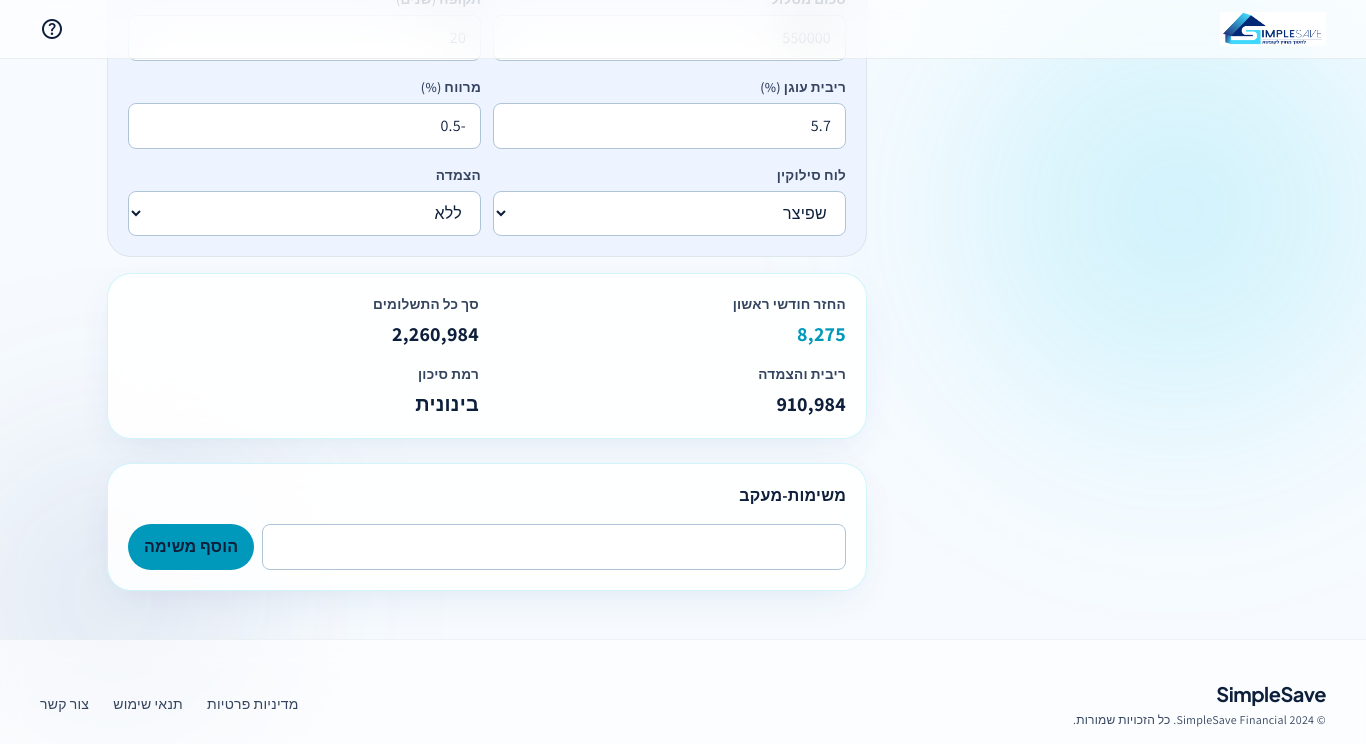
Test: AdvisorScreen › searches tasks by task text or client name in the משימות view
The image size is (1366, 744).
(page scrolled)
In the field named "תיאור המשימה": [554, 547] box [262,524,846,570], type "לבדוק ריבית"
Click the button "הוסף משימה": [191, 547] box [128,524,254,570]
(page scrolled)
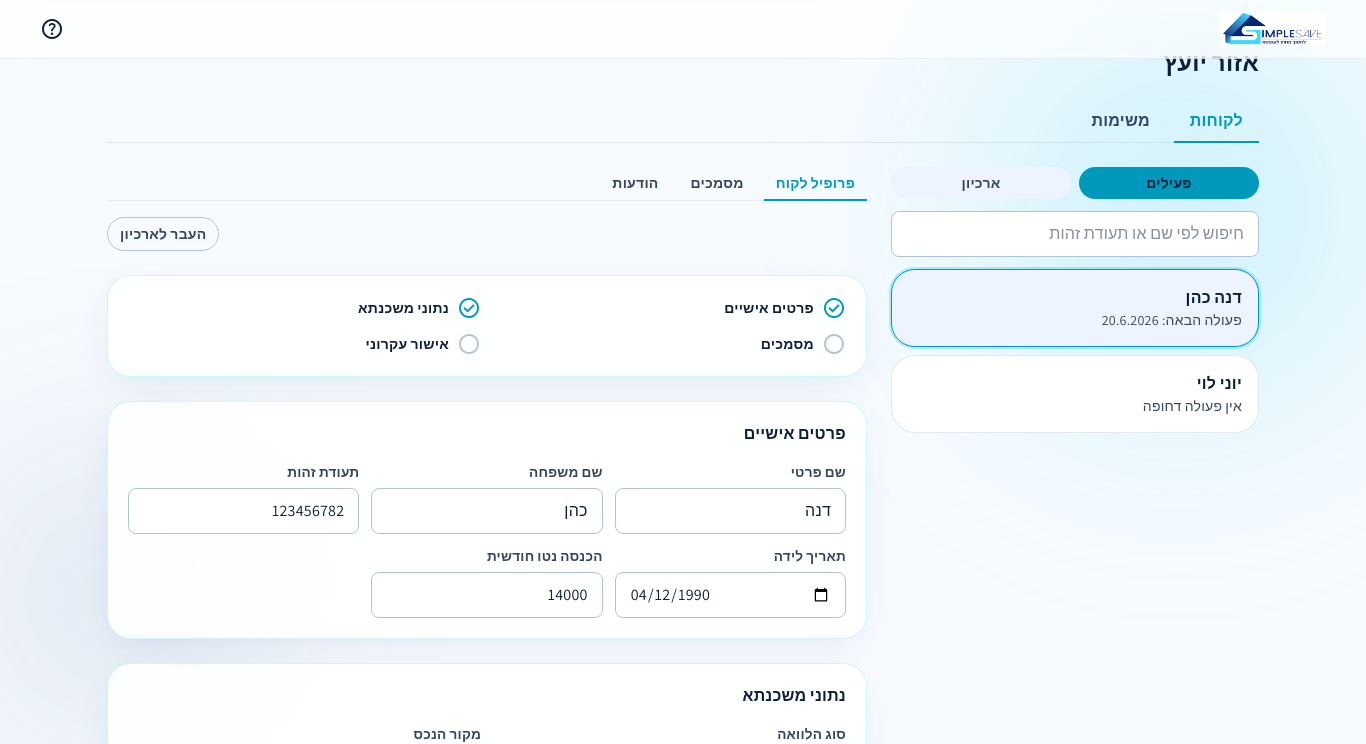
Click the text "יוני לוי": [1219, 384] box [1197,373,1242,394]
(page scrolled)
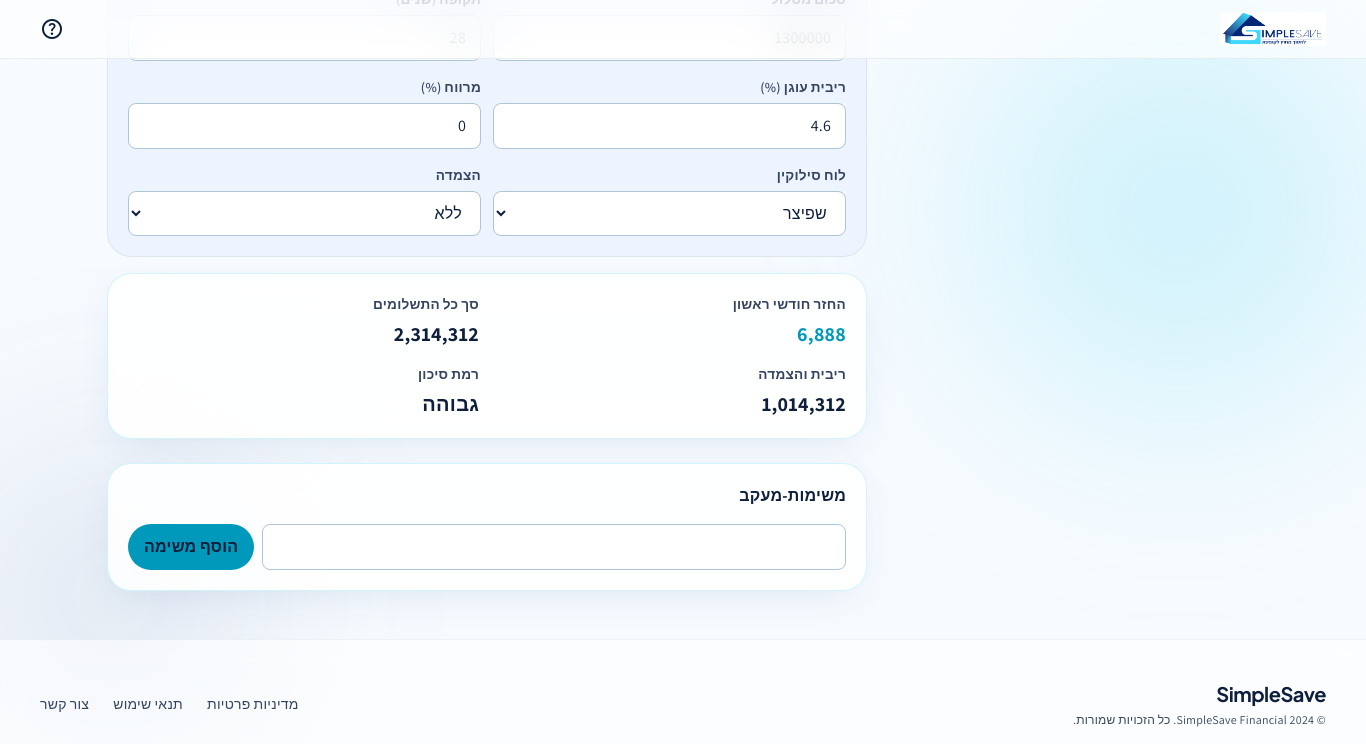
In the field named "תיאור המשימה": [554, 547] box [262,524,846,570], type "לשלוח מייל"
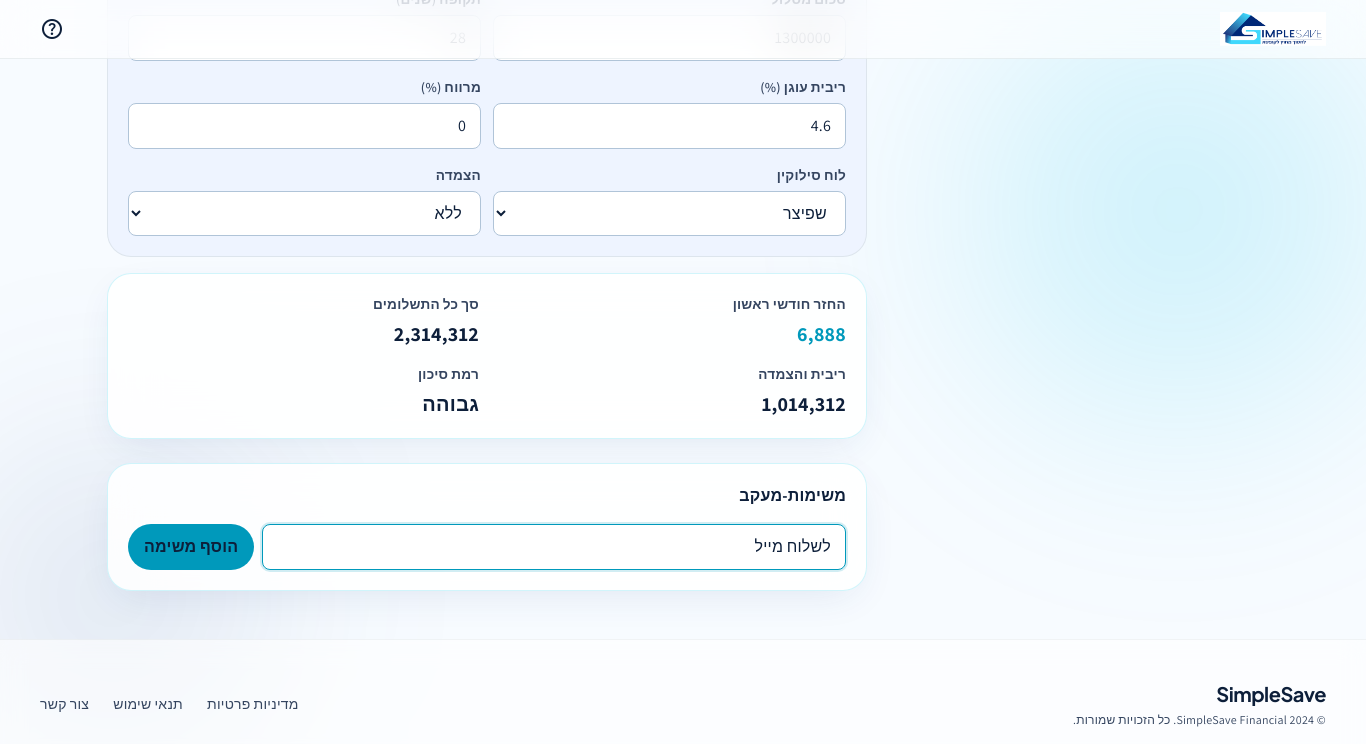
Click the button "הוסף משימה": [191, 547] box [128,524,254,570]
(page scrolled)
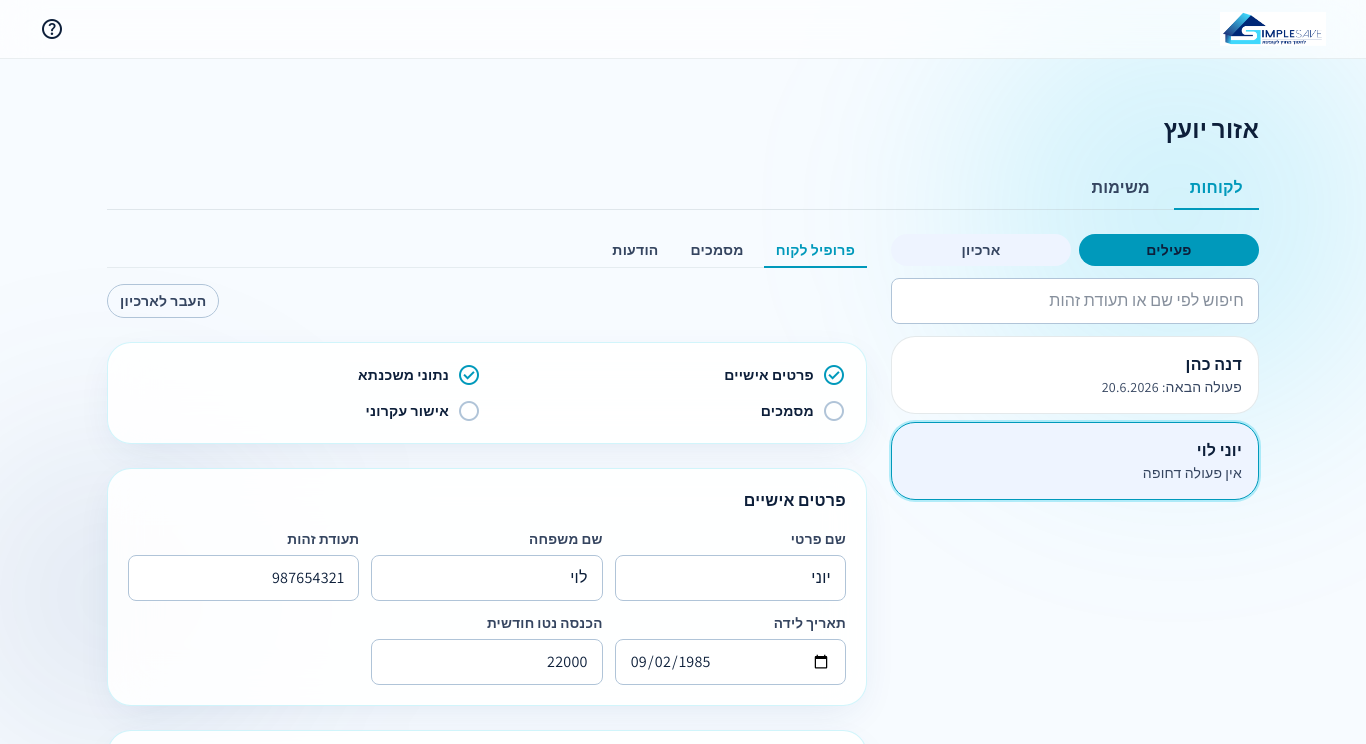
Click the button "משימות": [1121, 189] box [1076,168,1166,210]
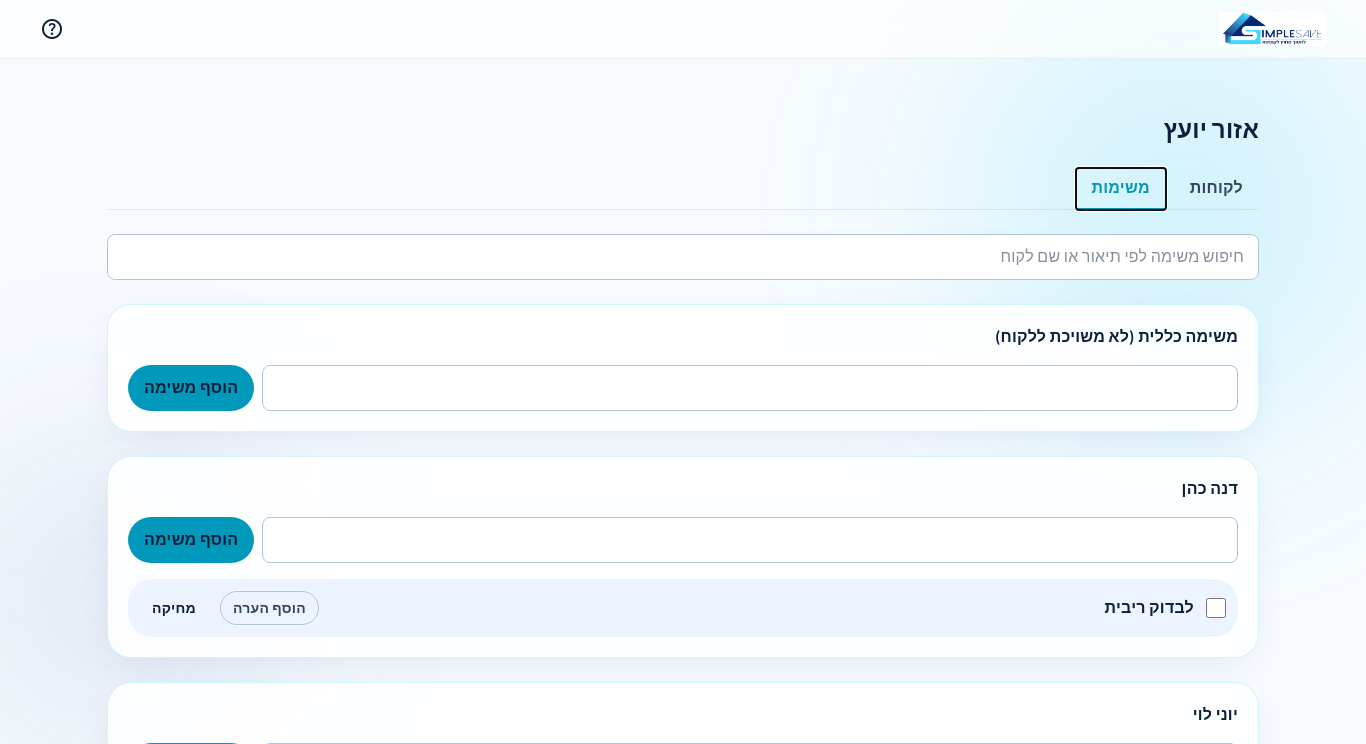
In the field labelled "חיפוש משימה לפי תיאור או שם לקוח": [683, 257] box [107,234,1259,280], type "ריבית"
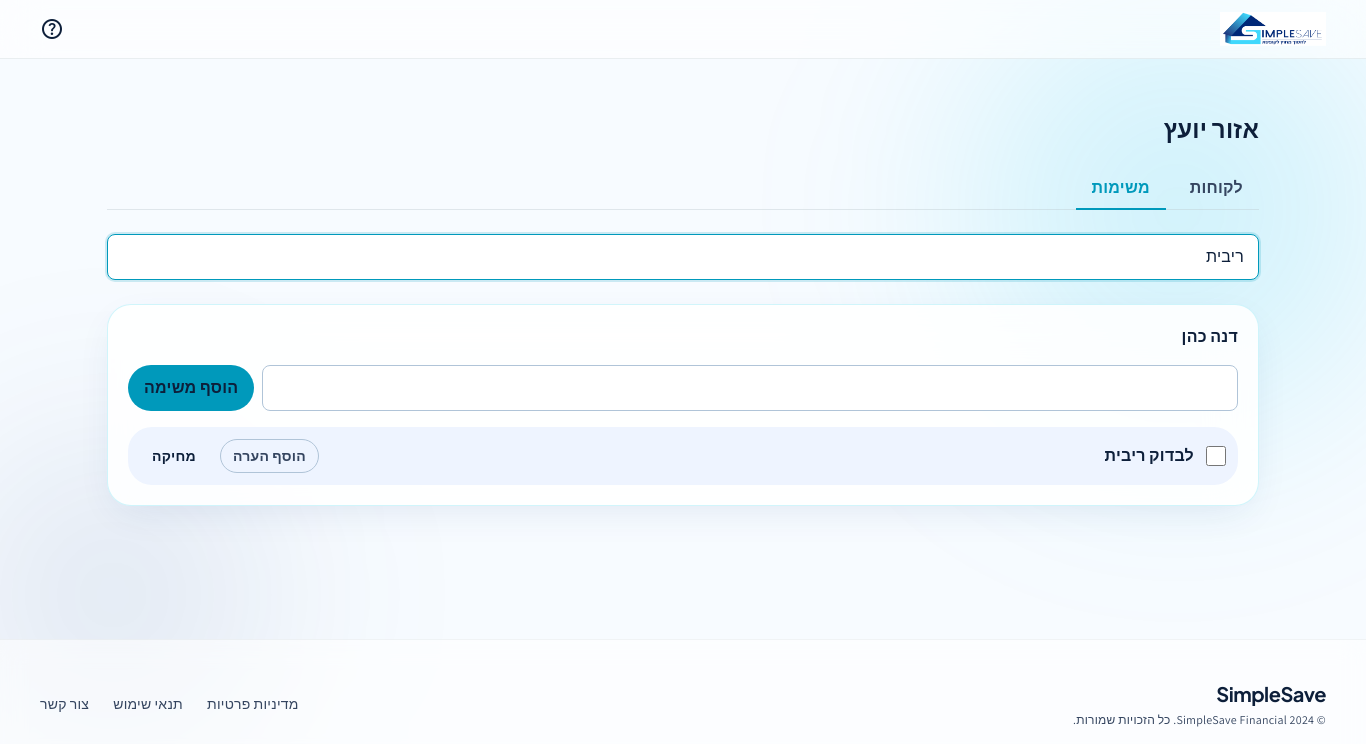
Now the text "לבדוק ריבית" is shown, box [1104,445,1194,466]
Now the heading "יוני לוי" is gone
